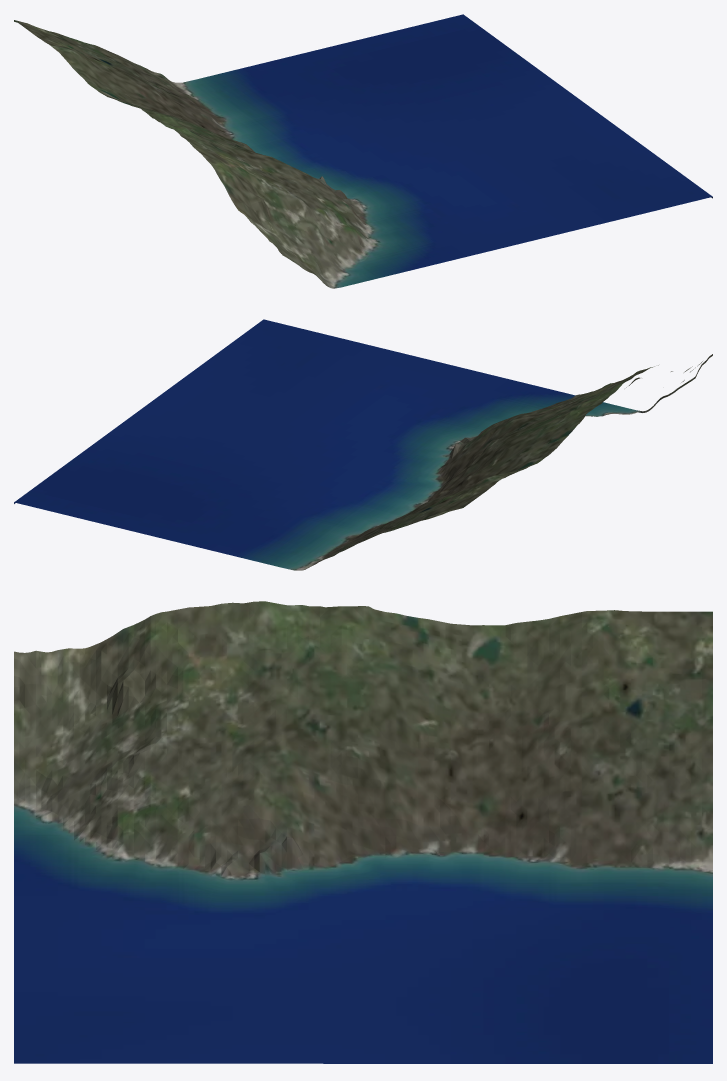
3 renders of one model, top to bottom at view 1: azimuth 30°, elevation 25°; view 2: azimuth 150°, elevation 25°; view 3: azimuth 270°, elevation 25°, orthographic. The views are drawn at different scales.
Bounding box in the file's own units: 250 × 60.22 × 241.
Materials: 1 (1 with a texture image).
